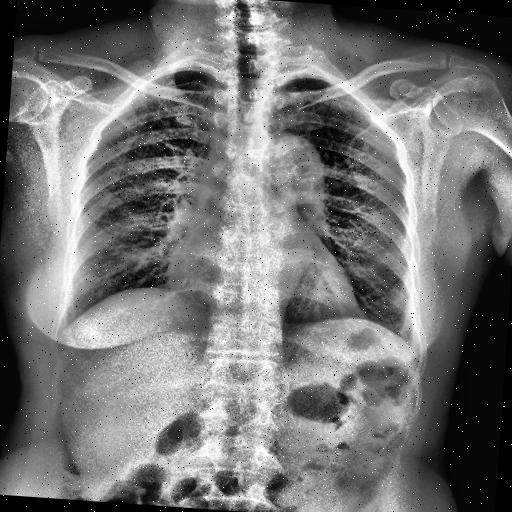0- Aortic enlargement: (220, 126, 336, 212), (252, 126, 338, 234), (223, 128, 329, 202)
